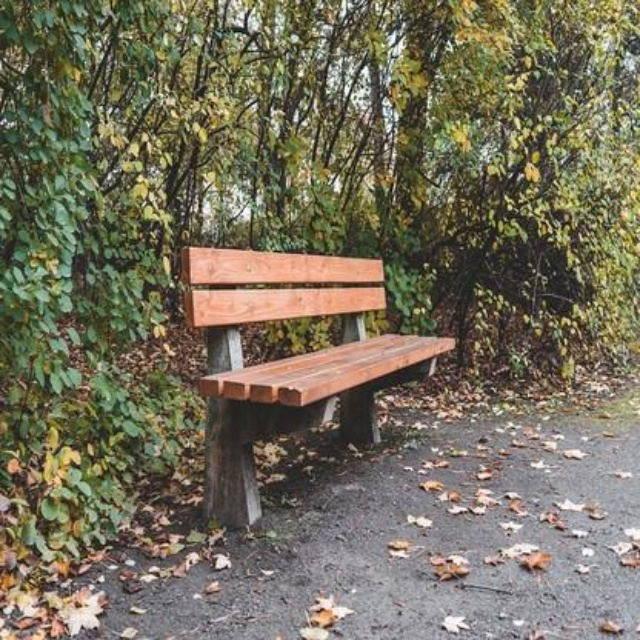obstacle: (142, 222, 465, 534)
